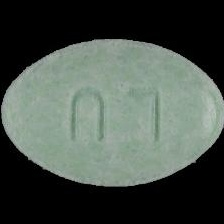68180-467: (0, 0, 224, 224)
